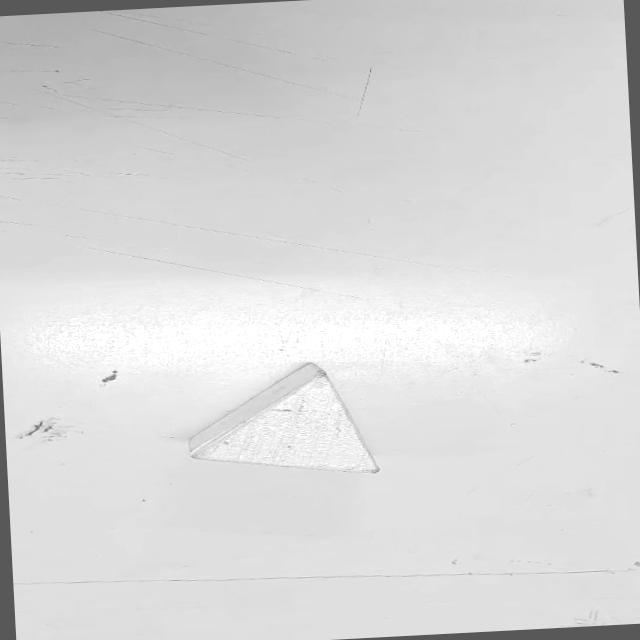ytriangle: (179, 359, 382, 484)
